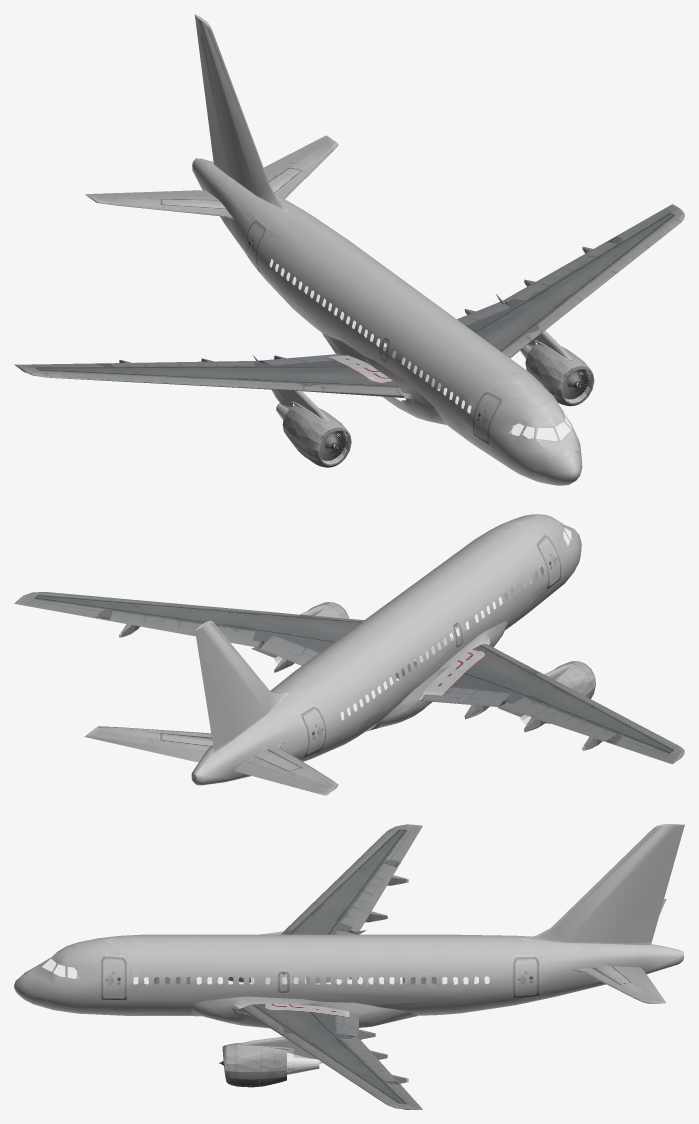
3 renders of one model, top to bottom at view 1: azimuth 30°, elevation 25°; view 2: azimuth 150°, elevation 25°; view 3: azimuth 270°, elevation 25°, orthographic. The views are drawn at different scales.
Visible parts, largest first — view 1: EngineL, Cargo1Int, CockpitWindows; view 2: EngineL, Cargo1Int, CockpitWindows; view 3: EngineL, Cargo1Int, CockpitWindows.
Part boxes in pixels (x1=…): EngineL: x1=14, y1=14, x2=684, y2=485; Cargo1Int: x1=253, y1=294, x2=591, y2=464; CockpitWindows: x1=270, y1=259, x2=571, y2=440; EngineL: x1=14, y1=514, x2=684, y2=795; Cargo1Int: x1=251, y1=530, x2=575, y2=724; CockpitWindows: x1=341, y1=527, x2=570, y2=719; EngineL: x1=14, y1=824, x2=684, y2=1109; Cargo1Int: x1=41, y1=930, x2=436, y2=1074; CockpitWindows: x1=43, y1=959, x2=488, y2=983.
Bounding box in the file's own units: 33.91 × 11.64 × 33.89.
3 materials, 3 textured.
